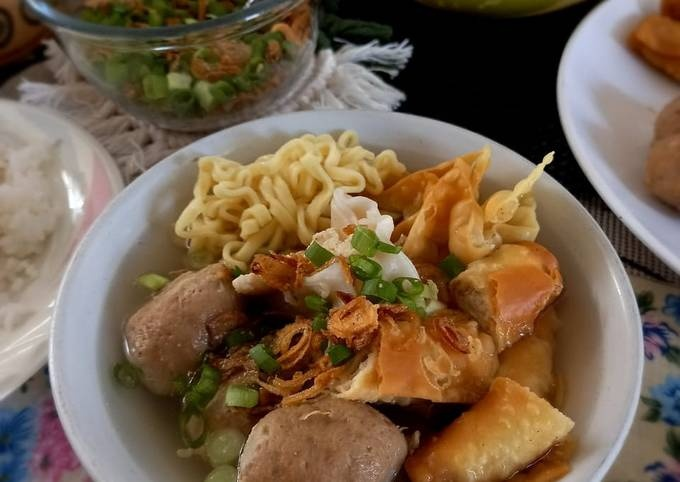bakso_malang: (113, 134, 575, 482)
